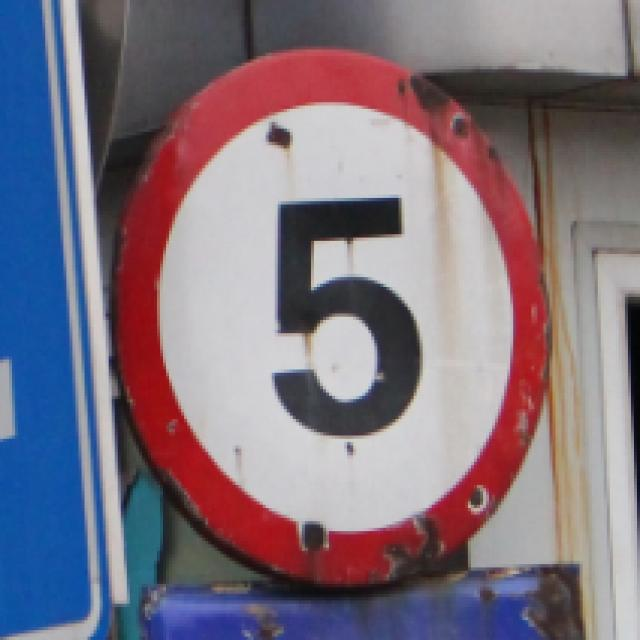Speed: (116, 39, 571, 591)
